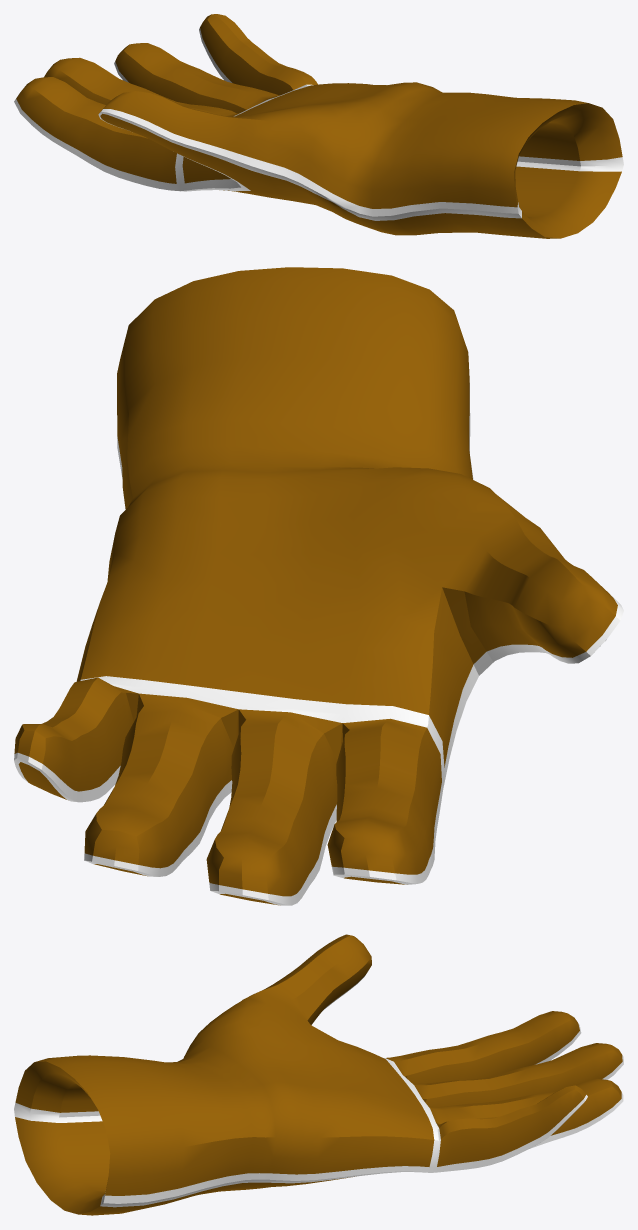
File: Welding Gloves.fbx
The picture shows the model from 3 angles, top to bottom: view 1: azimuth 30°, elevation 25°; view 2: azimuth 150°, elevation 25°; view 3: azimuth 270°, elevation 25°; orthographic projection. The views are drawn at different scales.
Parts seen in each view (by area): view 1: WeldingGloves; view 2: WeldingGloves; view 3: WeldingGloves.
Part boxes in pixels (x1=…): WeldingGloves: x1=14, y1=14, x2=623, y2=238; WeldingGloves: x1=14, y1=267, x2=623, y2=905; WeldingGloves: x1=14, y1=934, x2=623, y2=1215.
Bounding box in the file's own units: 37.85 × 12.64 × 48.61.
